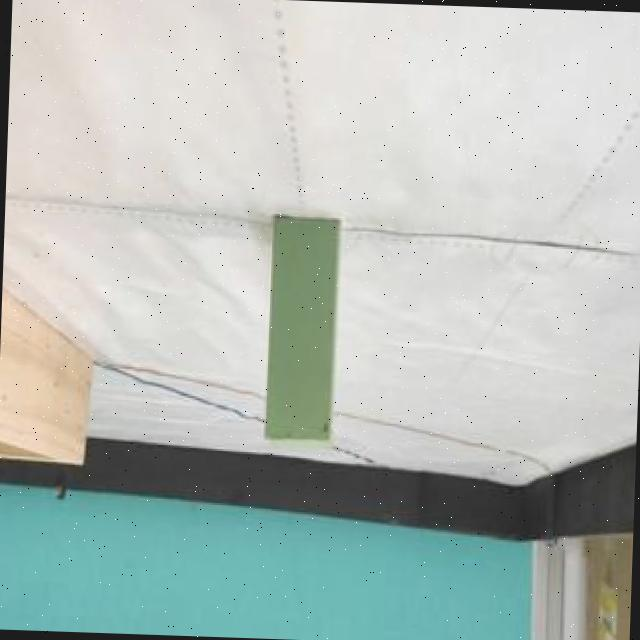greenbox: (256, 212, 344, 446)
